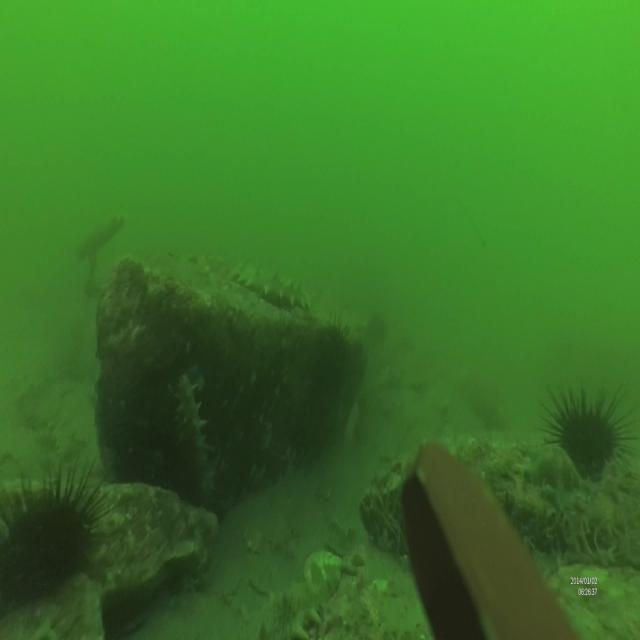echinus: (0, 451, 117, 624), (539, 381, 640, 511), (313, 313, 354, 399)
holothurian: (173, 372, 218, 500), (236, 581, 325, 640), (229, 255, 311, 313)
